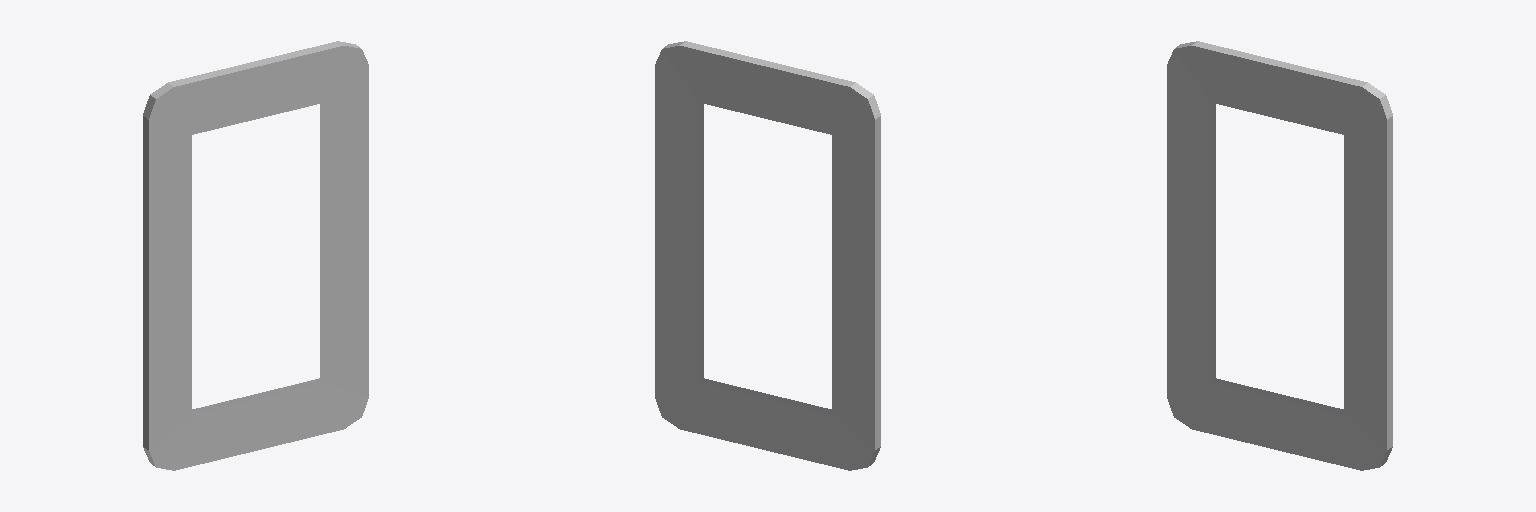
The model's file is frame for signal light.obj.
3 views of the same model, side by side, from view 1: azimuth 30°, elevation 25°; view 2: azimuth 150°, elevation 25°; view 3: azimuth 330°, elevation 25° (orthographic).
Size of the model in its own units: 0.5468 by 0.9083 by 0.0265.